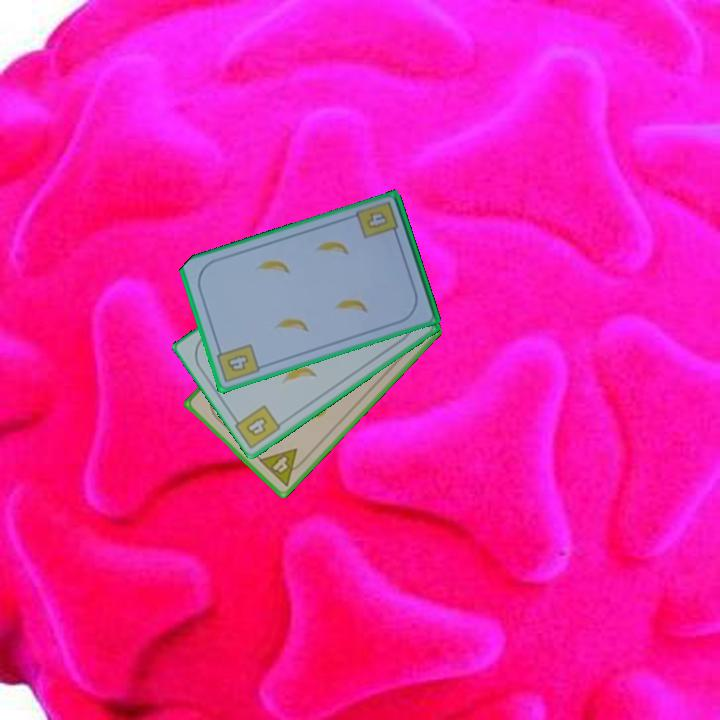4b: (213, 340, 263, 386), (242, 413, 270, 440), (363, 208, 391, 232)
4p: (255, 445, 310, 490)
